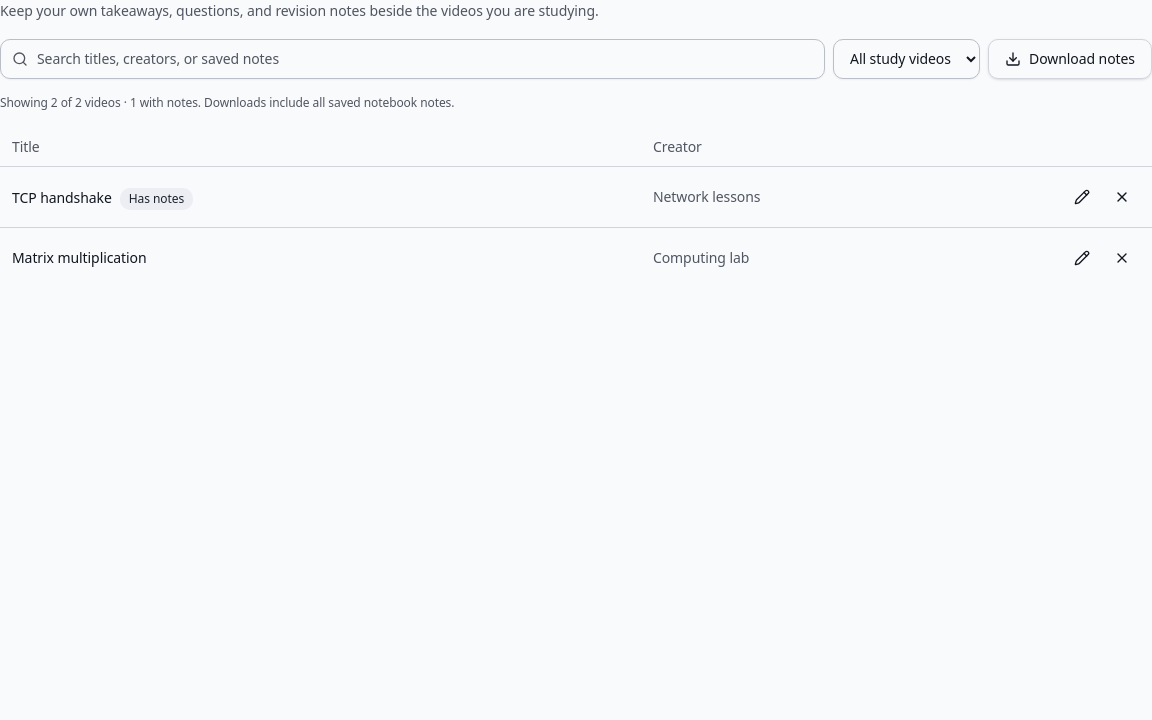
StudyNotebook › loads saved notes into a labeled editor and saves changes with Ctrl+Enter
The image size is (1152, 720).
Click the button named "Edit note for TCP handshake".
click(1082, 197)  # box [1064,179,1100,215]
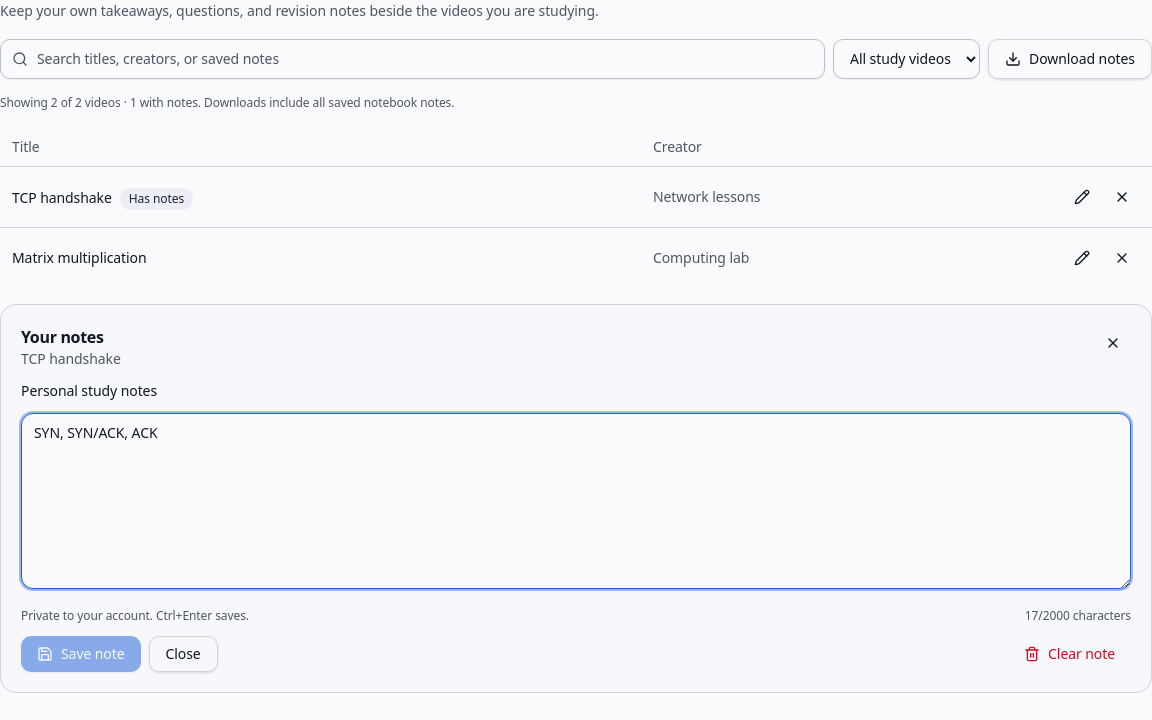
Check: the text box labelled "Personal study notes" holds "SYN, SYN/ACK, ACK"
Replace the text in the text box labelled "Personal study notes" with "TCP uses a three-way handshake." at (576, 501), box [21,413,1131,589]
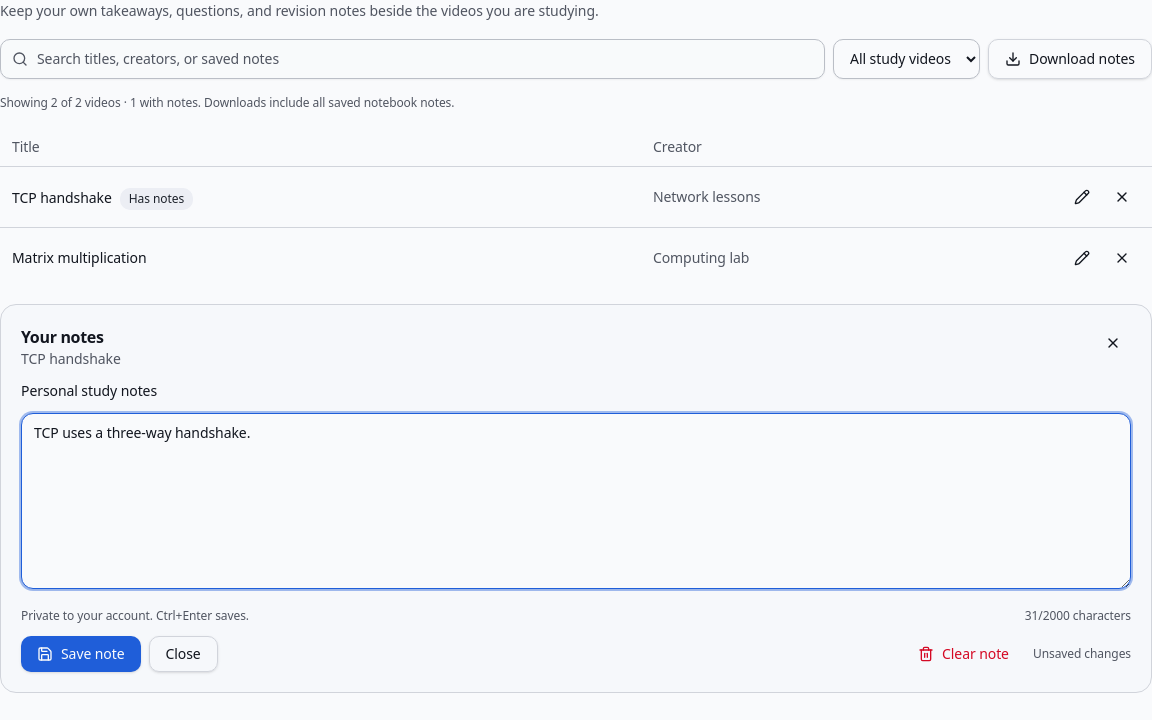
Press Enter in the text box labelled "Personal study notes", box [21,413,1131,589]
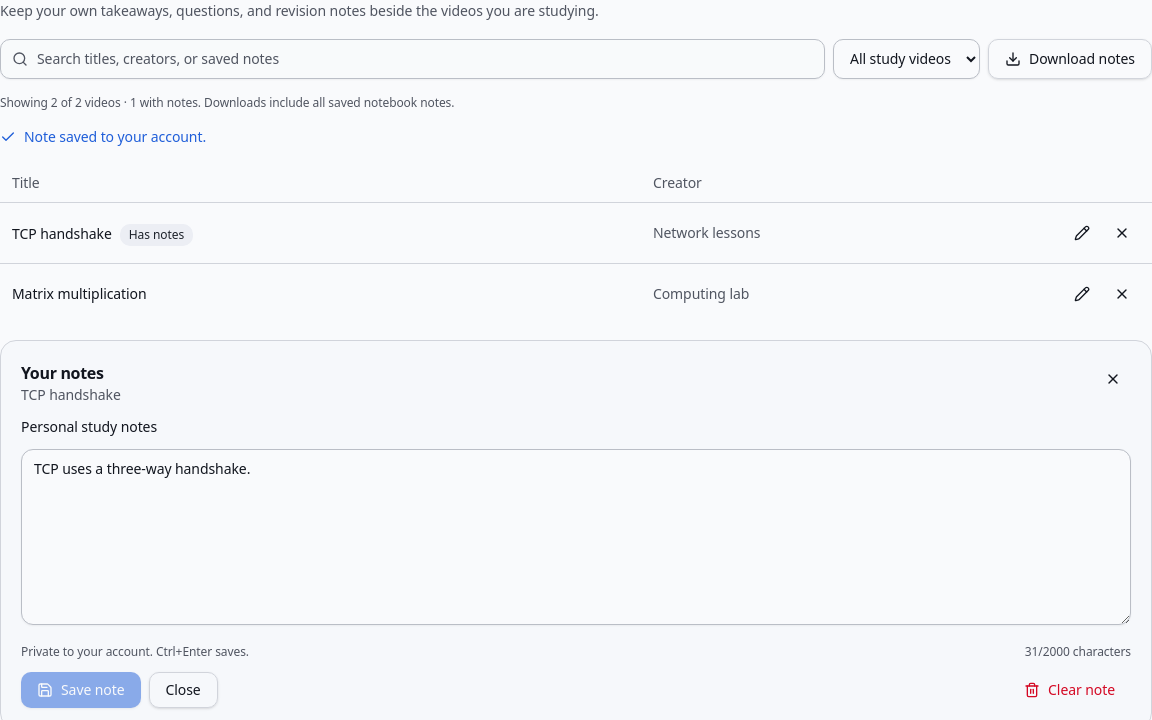
Check: the text "Note saved to your account." is shown, box [0,127,206,146]
